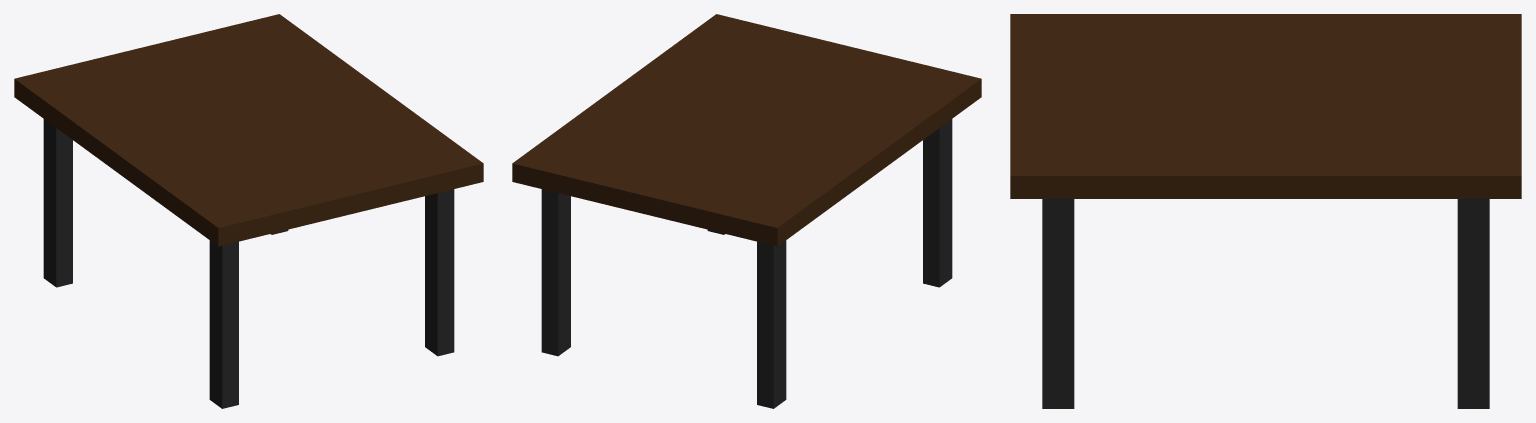
Rendered from Table.dae.
3 renders of one model, left to right at view 1: azimuth 30°, elevation 25°; view 2: azimuth 150°, elevation 25°; view 3: azimuth 270°, elevation 25°, orthographic. The views are drawn at different scales.
Visible parts, largest first — view 1: Table; view 2: Table; view 3: Table.
Part boxes in pixels (box(x1,y1,x2,y2)): Table: box(14, 14, 483, 408); Table: box(512, 14, 981, 408); Table: box(1010, 14, 1521, 408).
Size of the model in its own units: 3 by 4 by 2.1.
